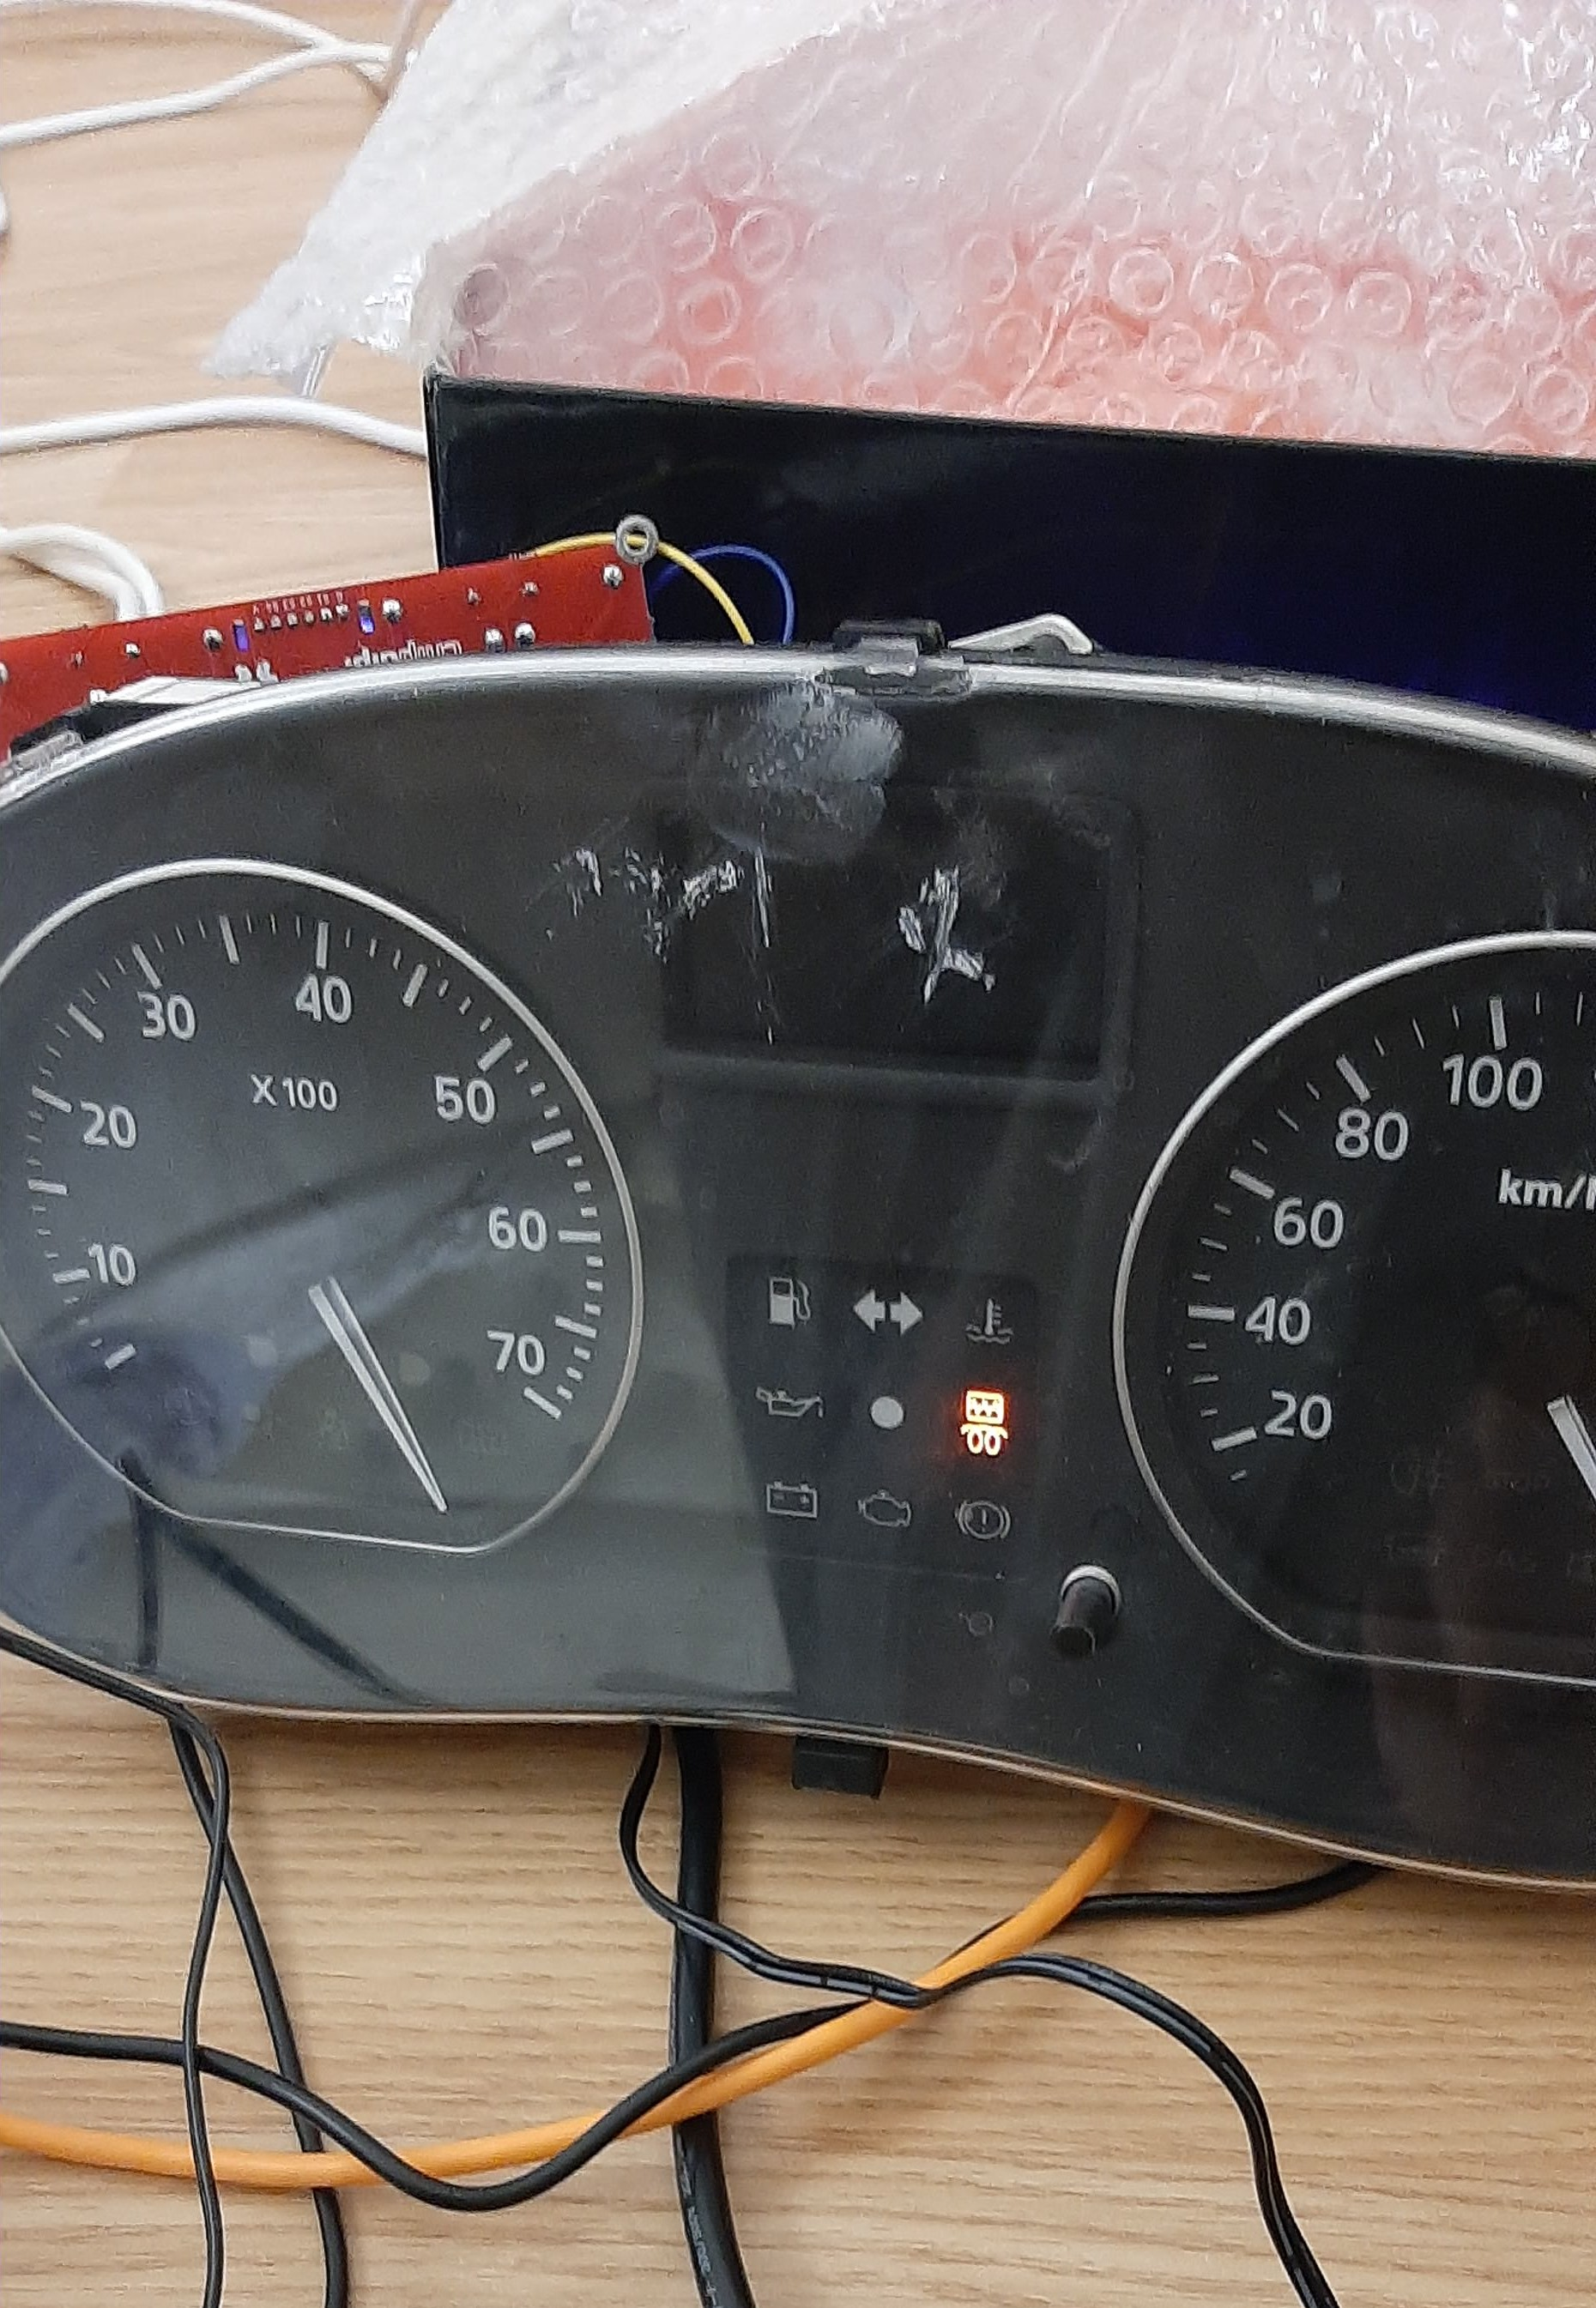diesel24: (958, 1387, 1010, 1459)
